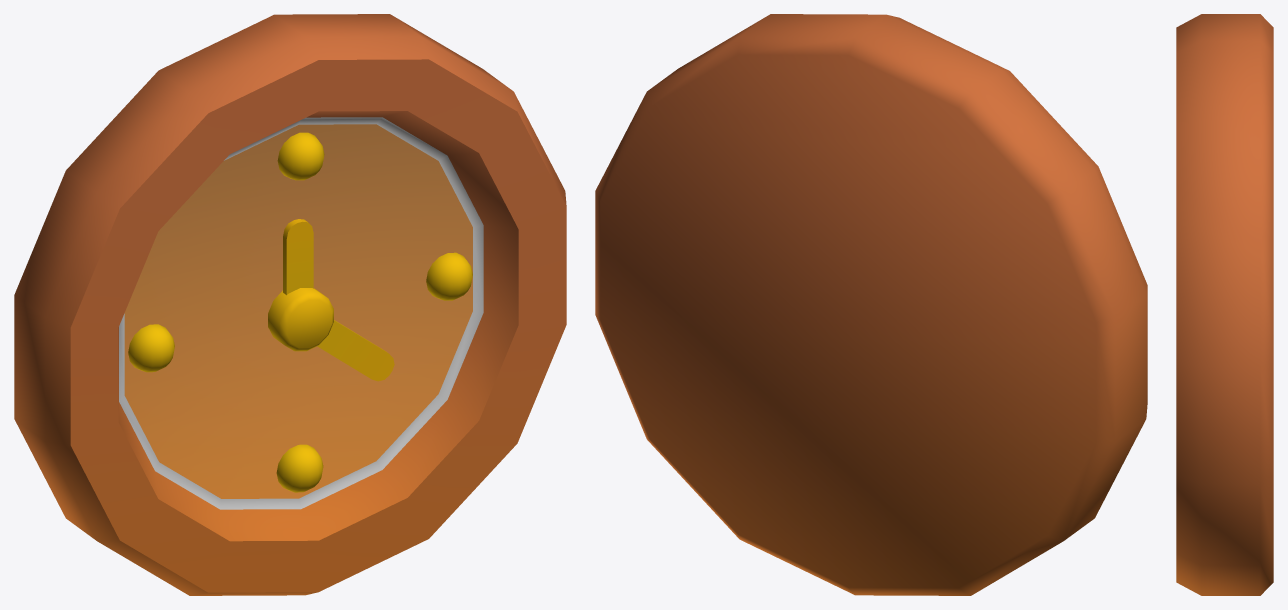
The model's file is Clock_2.fbx.
3 views of the same model, side by side, from view 1: azimuth 30°, elevation 25°; view 2: azimuth 150°, elevation 25°; view 3: azimuth 270°, elevation 25° (orthographic). The views are drawn at different scales.
Visible parts, largest first — view 1: Clock_2, Clock_2 Attach_2, Clock_2 Attach_1; view 2: Clock_2; view 3: Clock_2.
Boxes of the visible parts, x1=… form: Clock_2: x1=14, y1=14, x2=566, y2=595; Clock_2 Attach_2: x1=317, y1=320, x2=394, y2=381; Clock_2 Attach_1: x1=283, y1=219, x2=313, y2=295; Clock_2: x1=595, y1=14, x2=1147, y2=595; Clock_2: x1=1176, y1=14, x2=1273, y2=595.
Bounding box in the file's own units: 0.3943 × 0.4044 × 0.0675.
